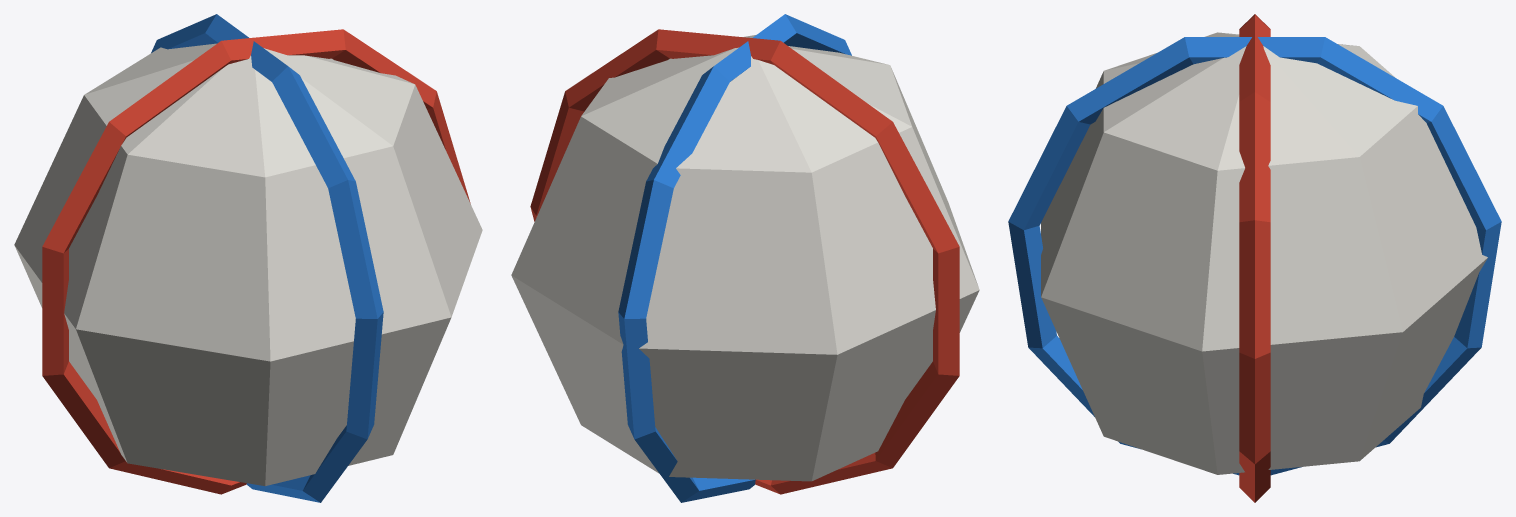
Rendered from ball-lod1.glb.
3 views of the same model, side by side, from view 1: azimuth 30°, elevation 25°; view 2: azimuth 150°, elevation 25°; view 3: azimuth 270°, elevation 25° (orthographic).
Parts seen in each view (by area): view 1: ball; view 2: ball; view 3: ball.
Boxes of the visible parts, x1,y1,x2,y2 form: ball: (14,14,482,502); ball: (511,14,979,502); ball: (1008,14,1501,502).
Bounding box in the file's own units: 0.6172 × 0.6268 × 0.6236.
